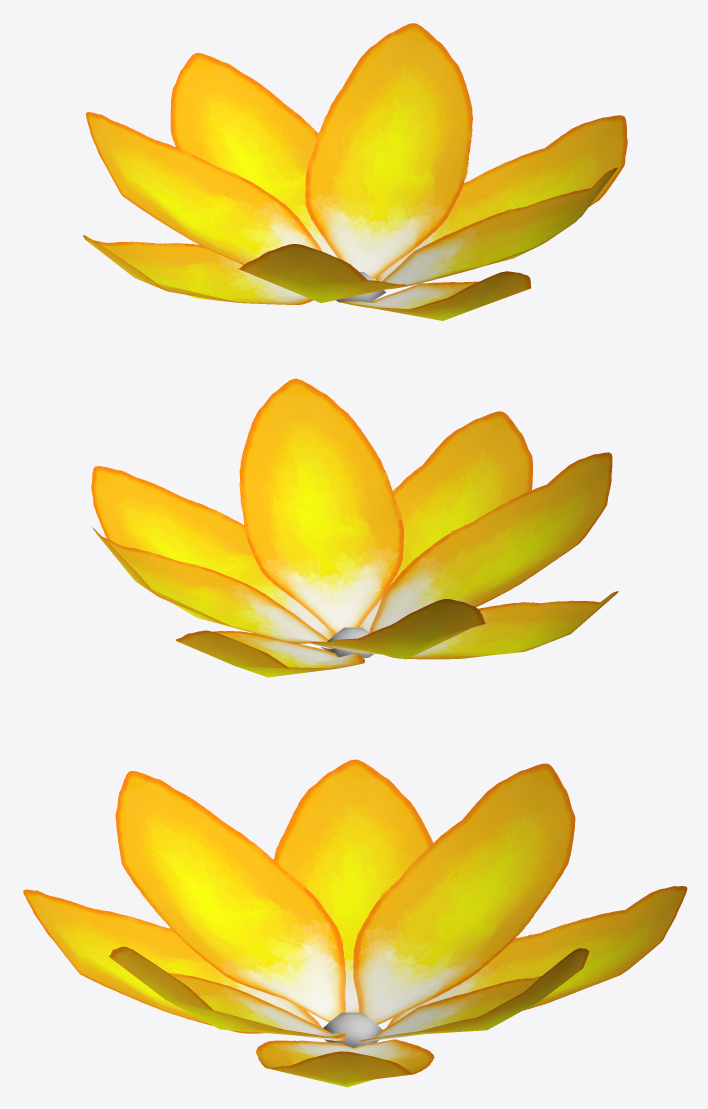
The model's file is OrangeFlower.fbx.
3 views of the same model, one above another, from view 1: azimuth 30°, elevation 25°; view 2: azimuth 150°, elevation 25°; view 3: azimuth 270°, elevation 25° (orthographic). The views are drawn at different scales.
Visible parts, largest first — view 1: Sphere; view 2: Sphere; view 3: Sphere.
Part boxes in pixels (x1,y1,x2,y2): Sphere: [83, 23, 627, 320]; Sphere: [91, 378, 618, 677]; Sphere: [23, 759, 687, 1087].
Bounding box in the file's own units: 389 × 114 × 382.
